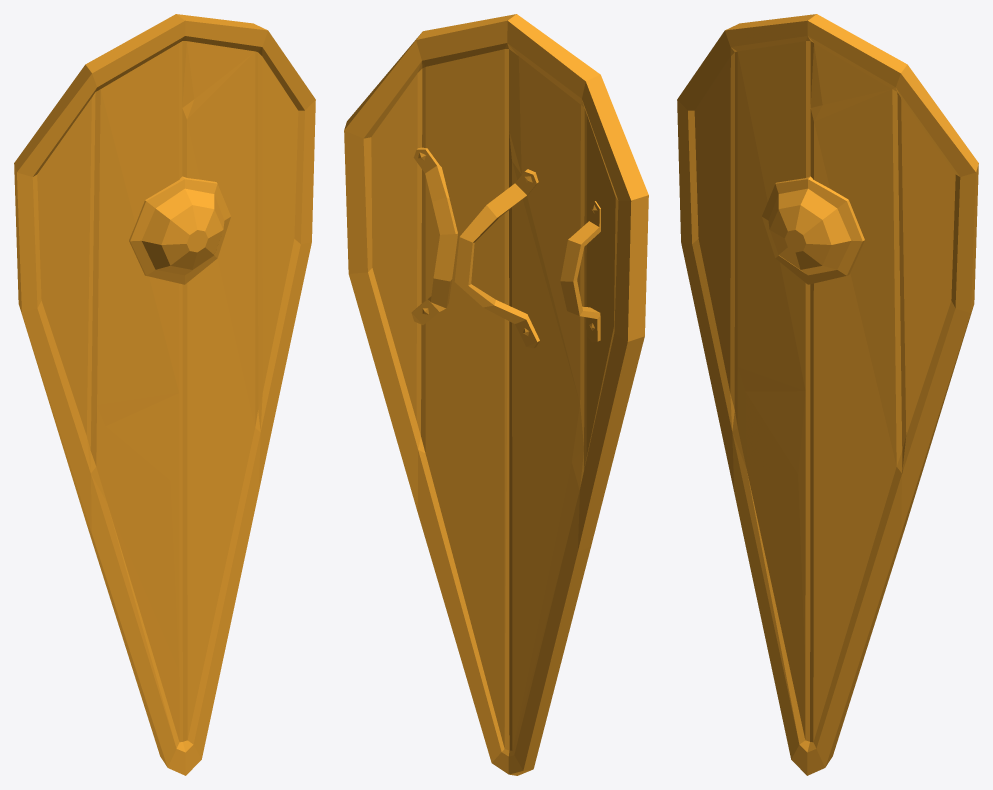
The model's file is SM_Shield_Kite_Boss_B.fbx.
3 renders of one model, left to right at view 1: azimuth 30°, elevation 25°; view 2: azimuth 150°, elevation 25°; view 3: azimuth 330°, elevation 25°, orthographic.
Visible parts, largest first — view 1: shield-kite-boss-b; view 2: shield-kite-boss-b; view 3: shield-kite-boss-b.
Boxes of the visible parts, x1,y1,x2,y2 form: shield-kite-boss-b: (14, 14, 315, 775); shield-kite-boss-b: (344, 14, 648, 775); shield-kite-boss-b: (677, 14, 978, 775).
Bounding box in the file's own units: 0.6127 × 1.48 × 0.1887.
